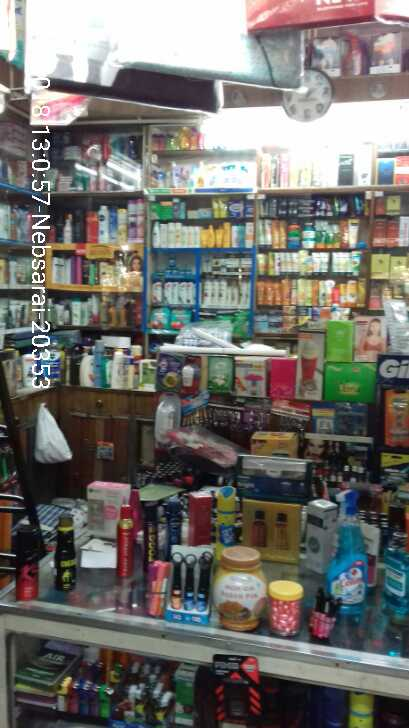gillete: (386, 391, 409, 440), (382, 452, 409, 484)
